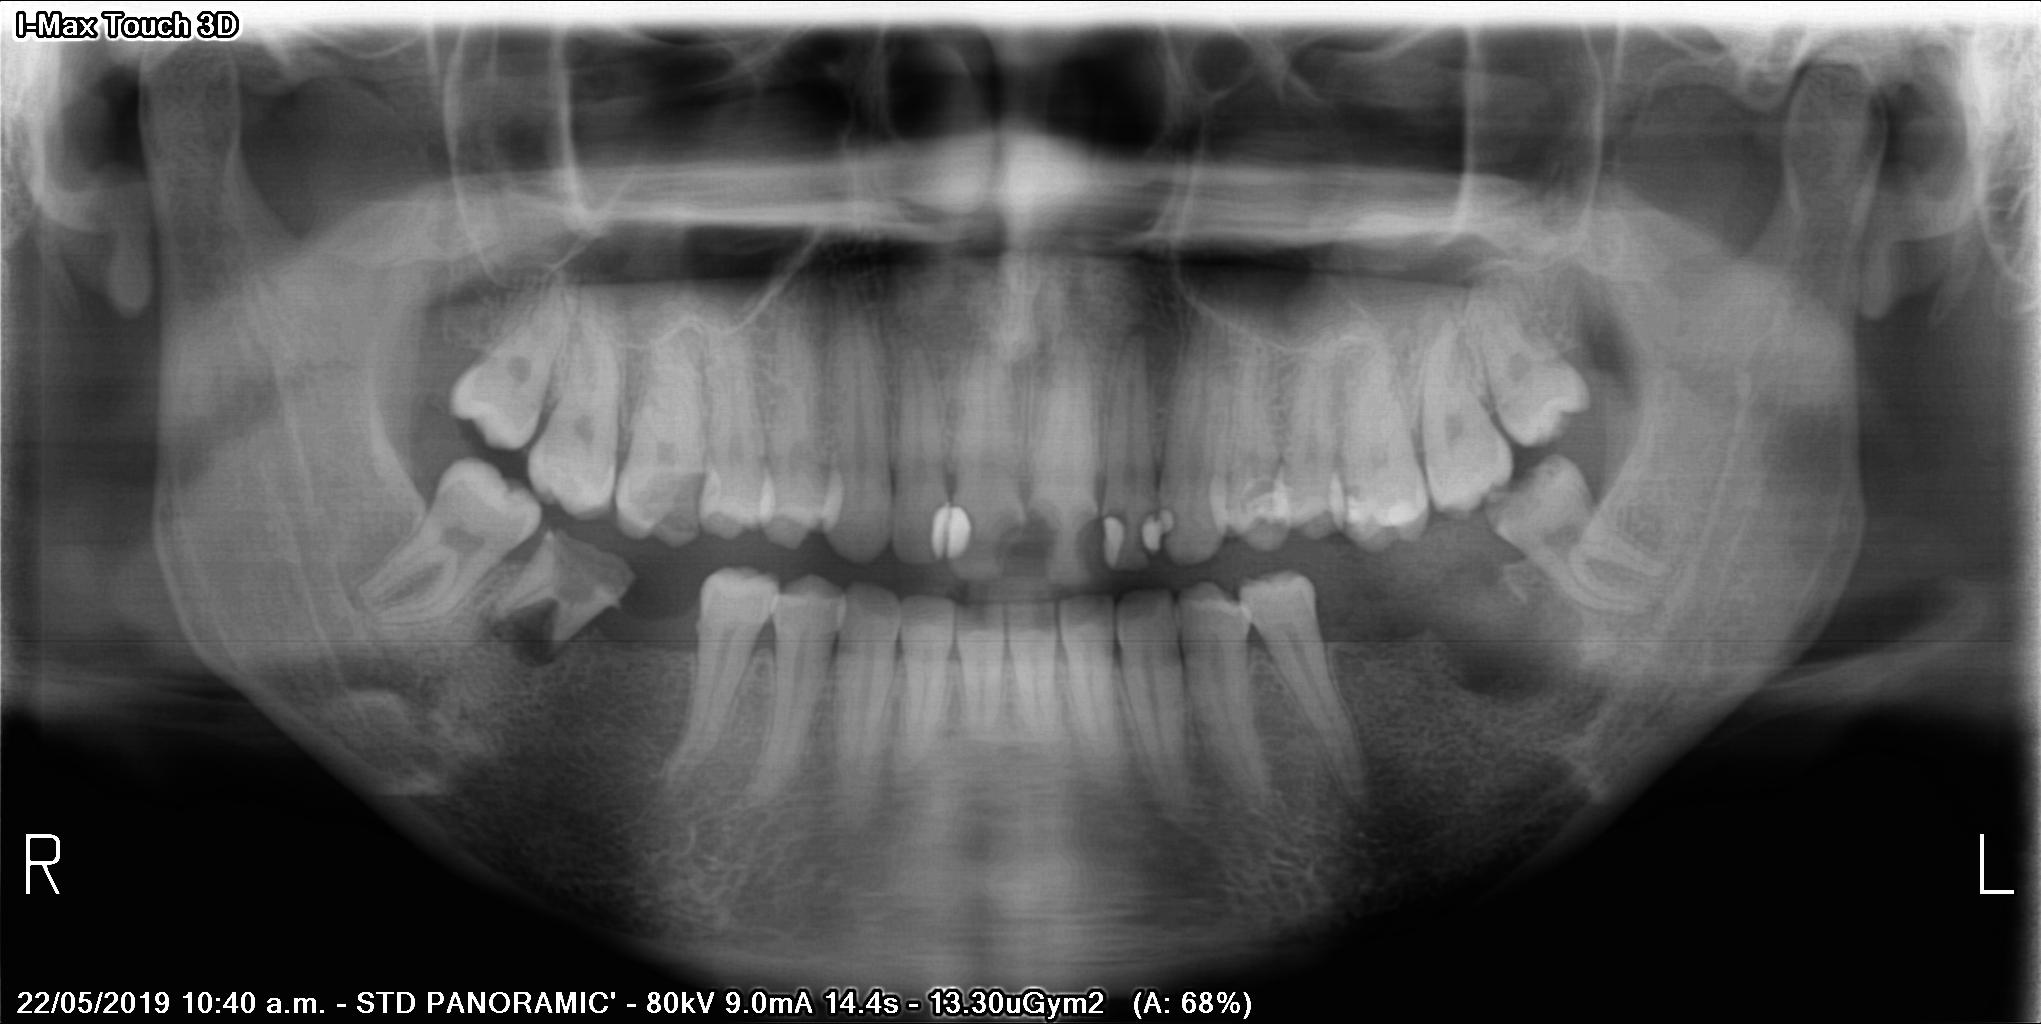Çürük: (930, 511, 966, 554), (1100, 524, 1131, 564), (1149, 513, 1171, 546)
Çürük Bölgesi: (558, 532, 635, 605), (656, 475, 706, 545), (1059, 508, 1096, 575), (1029, 499, 1066, 562), (1132, 536, 1170, 563), (968, 512, 982, 556)
